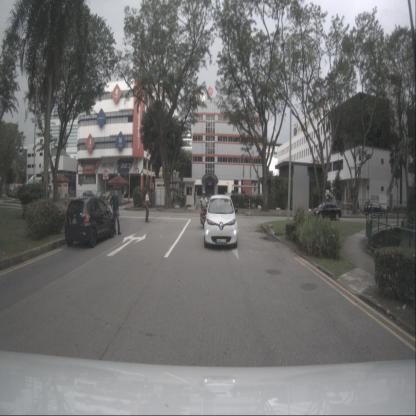human-pedestrian-adult: (110, 189, 122, 235), (145, 189, 151, 223), (194, 190, 196, 205), (357, 201, 359, 215)
vehicle-car: (64, 196, 116, 248), (203, 195, 238, 249), (312, 203, 342, 221), (364, 201, 384, 217), (102, 191, 115, 201), (82, 190, 95, 199), (95, 190, 105, 200)
vehicle-motorcycle: (200, 190, 209, 230)
